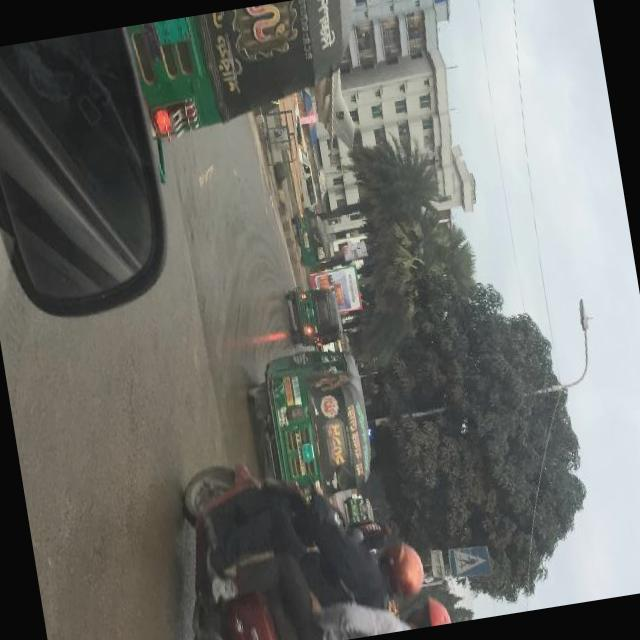motorcycle: (154, 446, 361, 640), (131, 0, 369, 144), (242, 348, 379, 506), (285, 282, 344, 352), (292, 213, 330, 269), (344, 496, 374, 526)
truck: (294, 147, 318, 210)
